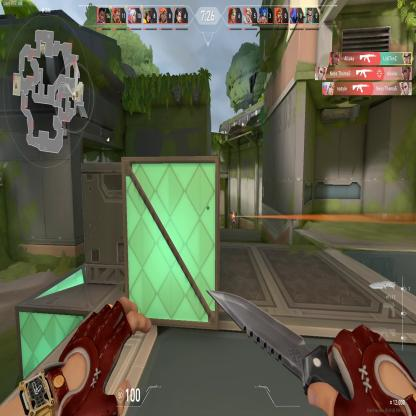enemy: (230, 209, 236, 229)
